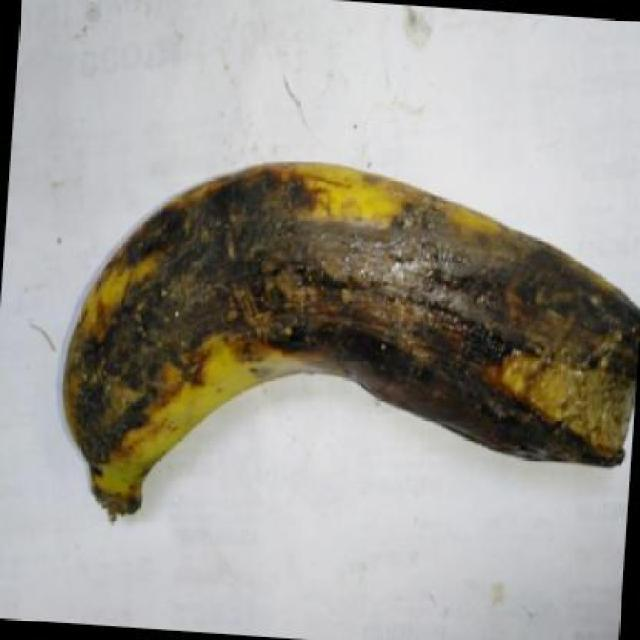rotten: (37, 107, 640, 565)
